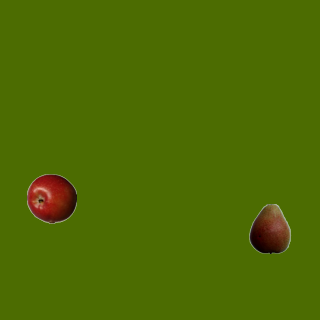Apple Braeburn: (26, 173, 76, 223)
Pear Forelle: (244, 203, 294, 253)
